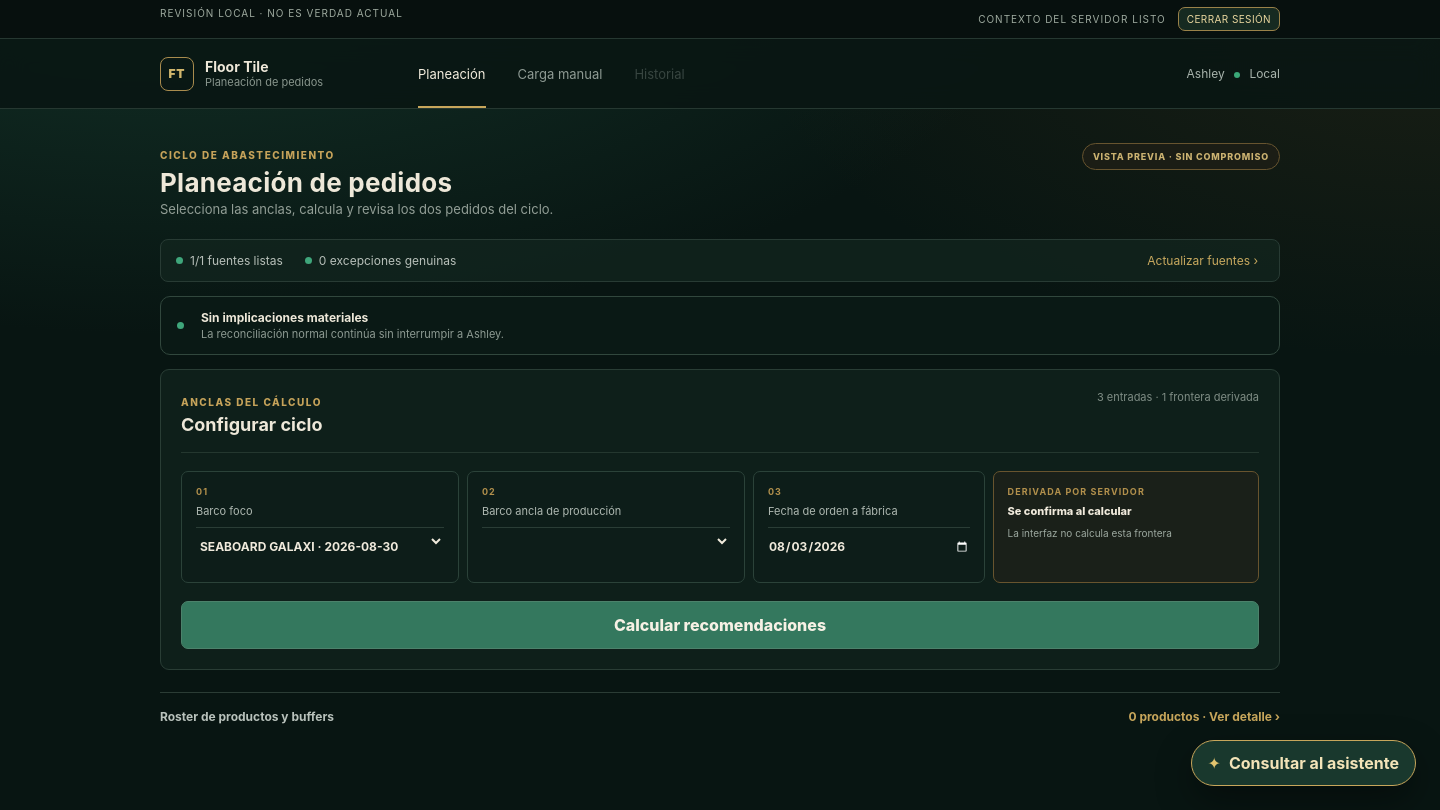
Test case: protected Composer shell › presents the assistant as an unbuilt future capability without accepting questions
This screenshot has width=1440, height=810.
Expected: the heading "Planeación de pedidos" is shown, [160,167,452,198]
Step 1. Click the button "✦ Consultar al asistente" → [1303, 763], box [1191,740,1416,786]
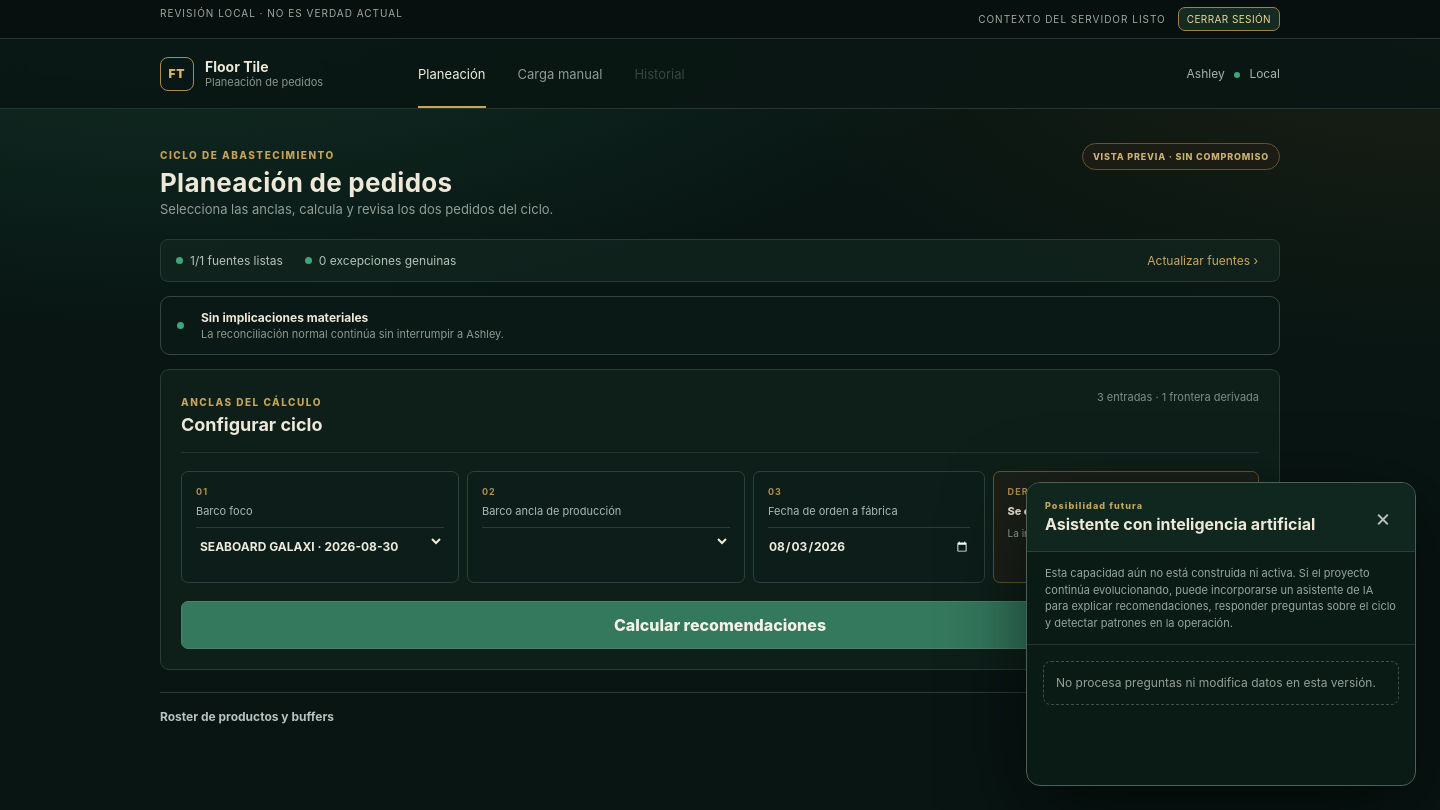
Expected: the heading "Planeación de pedidos" is shown, [160,167,452,198]
Expected: the text "Posibilidad futura" is shown, [1045,500,1143,511]
Expected: the text "Esta capacidad aún no está construida ni activa" is shown, [1045,566,1396,630]
